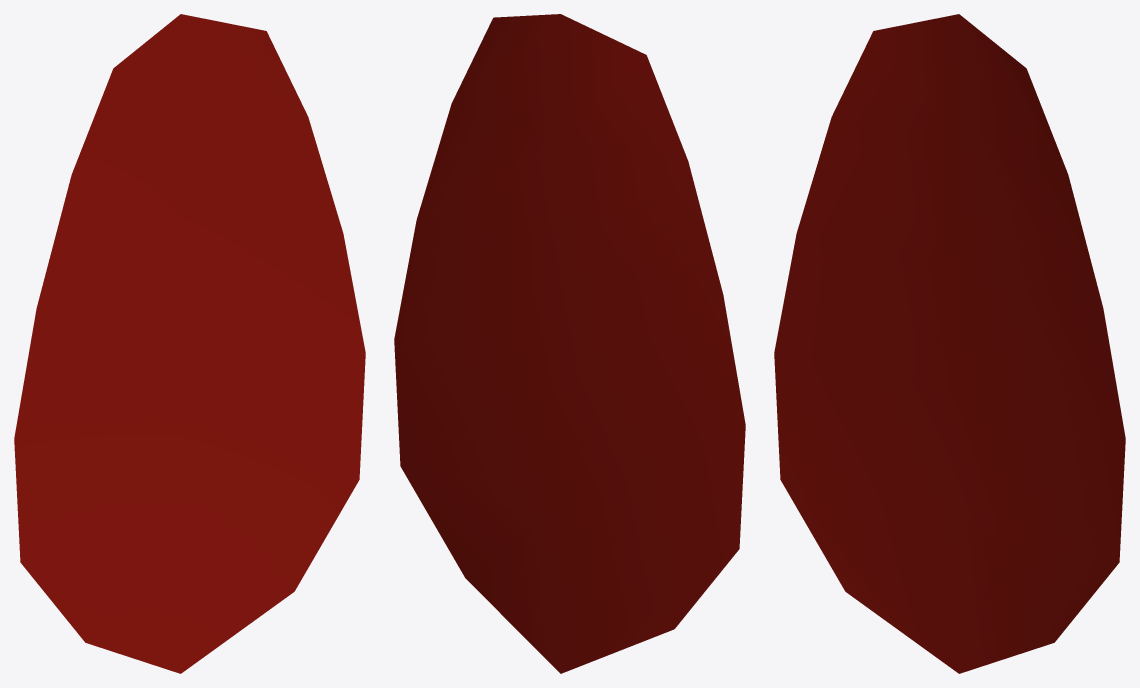
The model's file is ara_feather_flight_tertiary_033.obj.
3 renders of one model, left to right at view 1: azimuth 30°, elevation 25°; view 2: azimuth 150°, elevation 25°; view 3: azimuth 330°, elevation 25°, orthographic.
Visible parts, largest first — view 1: feather_flight_tertiary_033; view 2: feather_flight_tertiary_033; view 3: feather_flight_tertiary_033.
Boxes of the visible parts, x1=… form: feather_flight_tertiary_033: x1=14, y1=14, x2=365, y2=673; feather_flight_tertiary_033: x1=394, y1=14, x2=745, y2=673; feather_flight_tertiary_033: x1=774, y1=14, x2=1125, y2=673.
Bounding box in the file's own units: 0.016 × 0.0287 × 0.000725.
